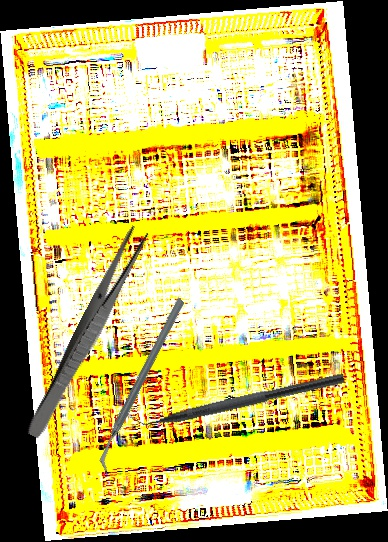Chopper: (49, 296, 236, 474), (121, 358, 347, 437)
Dressing Forceps: (23, 223, 152, 443)
